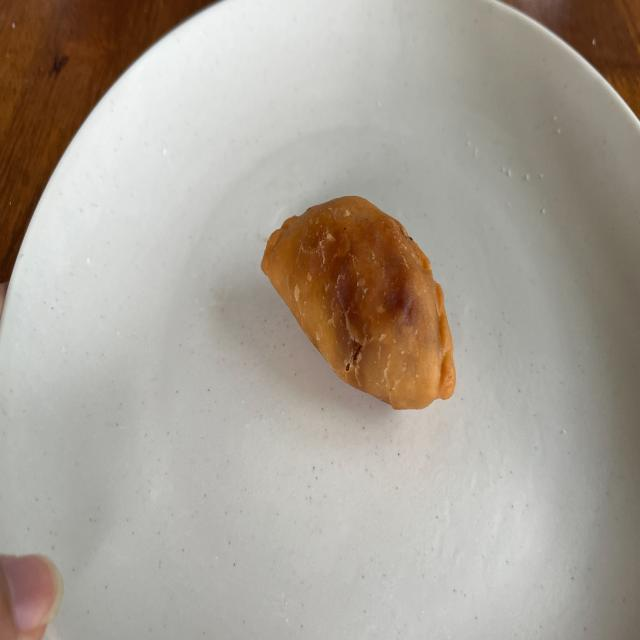karipap: (261, 196, 456, 409)
